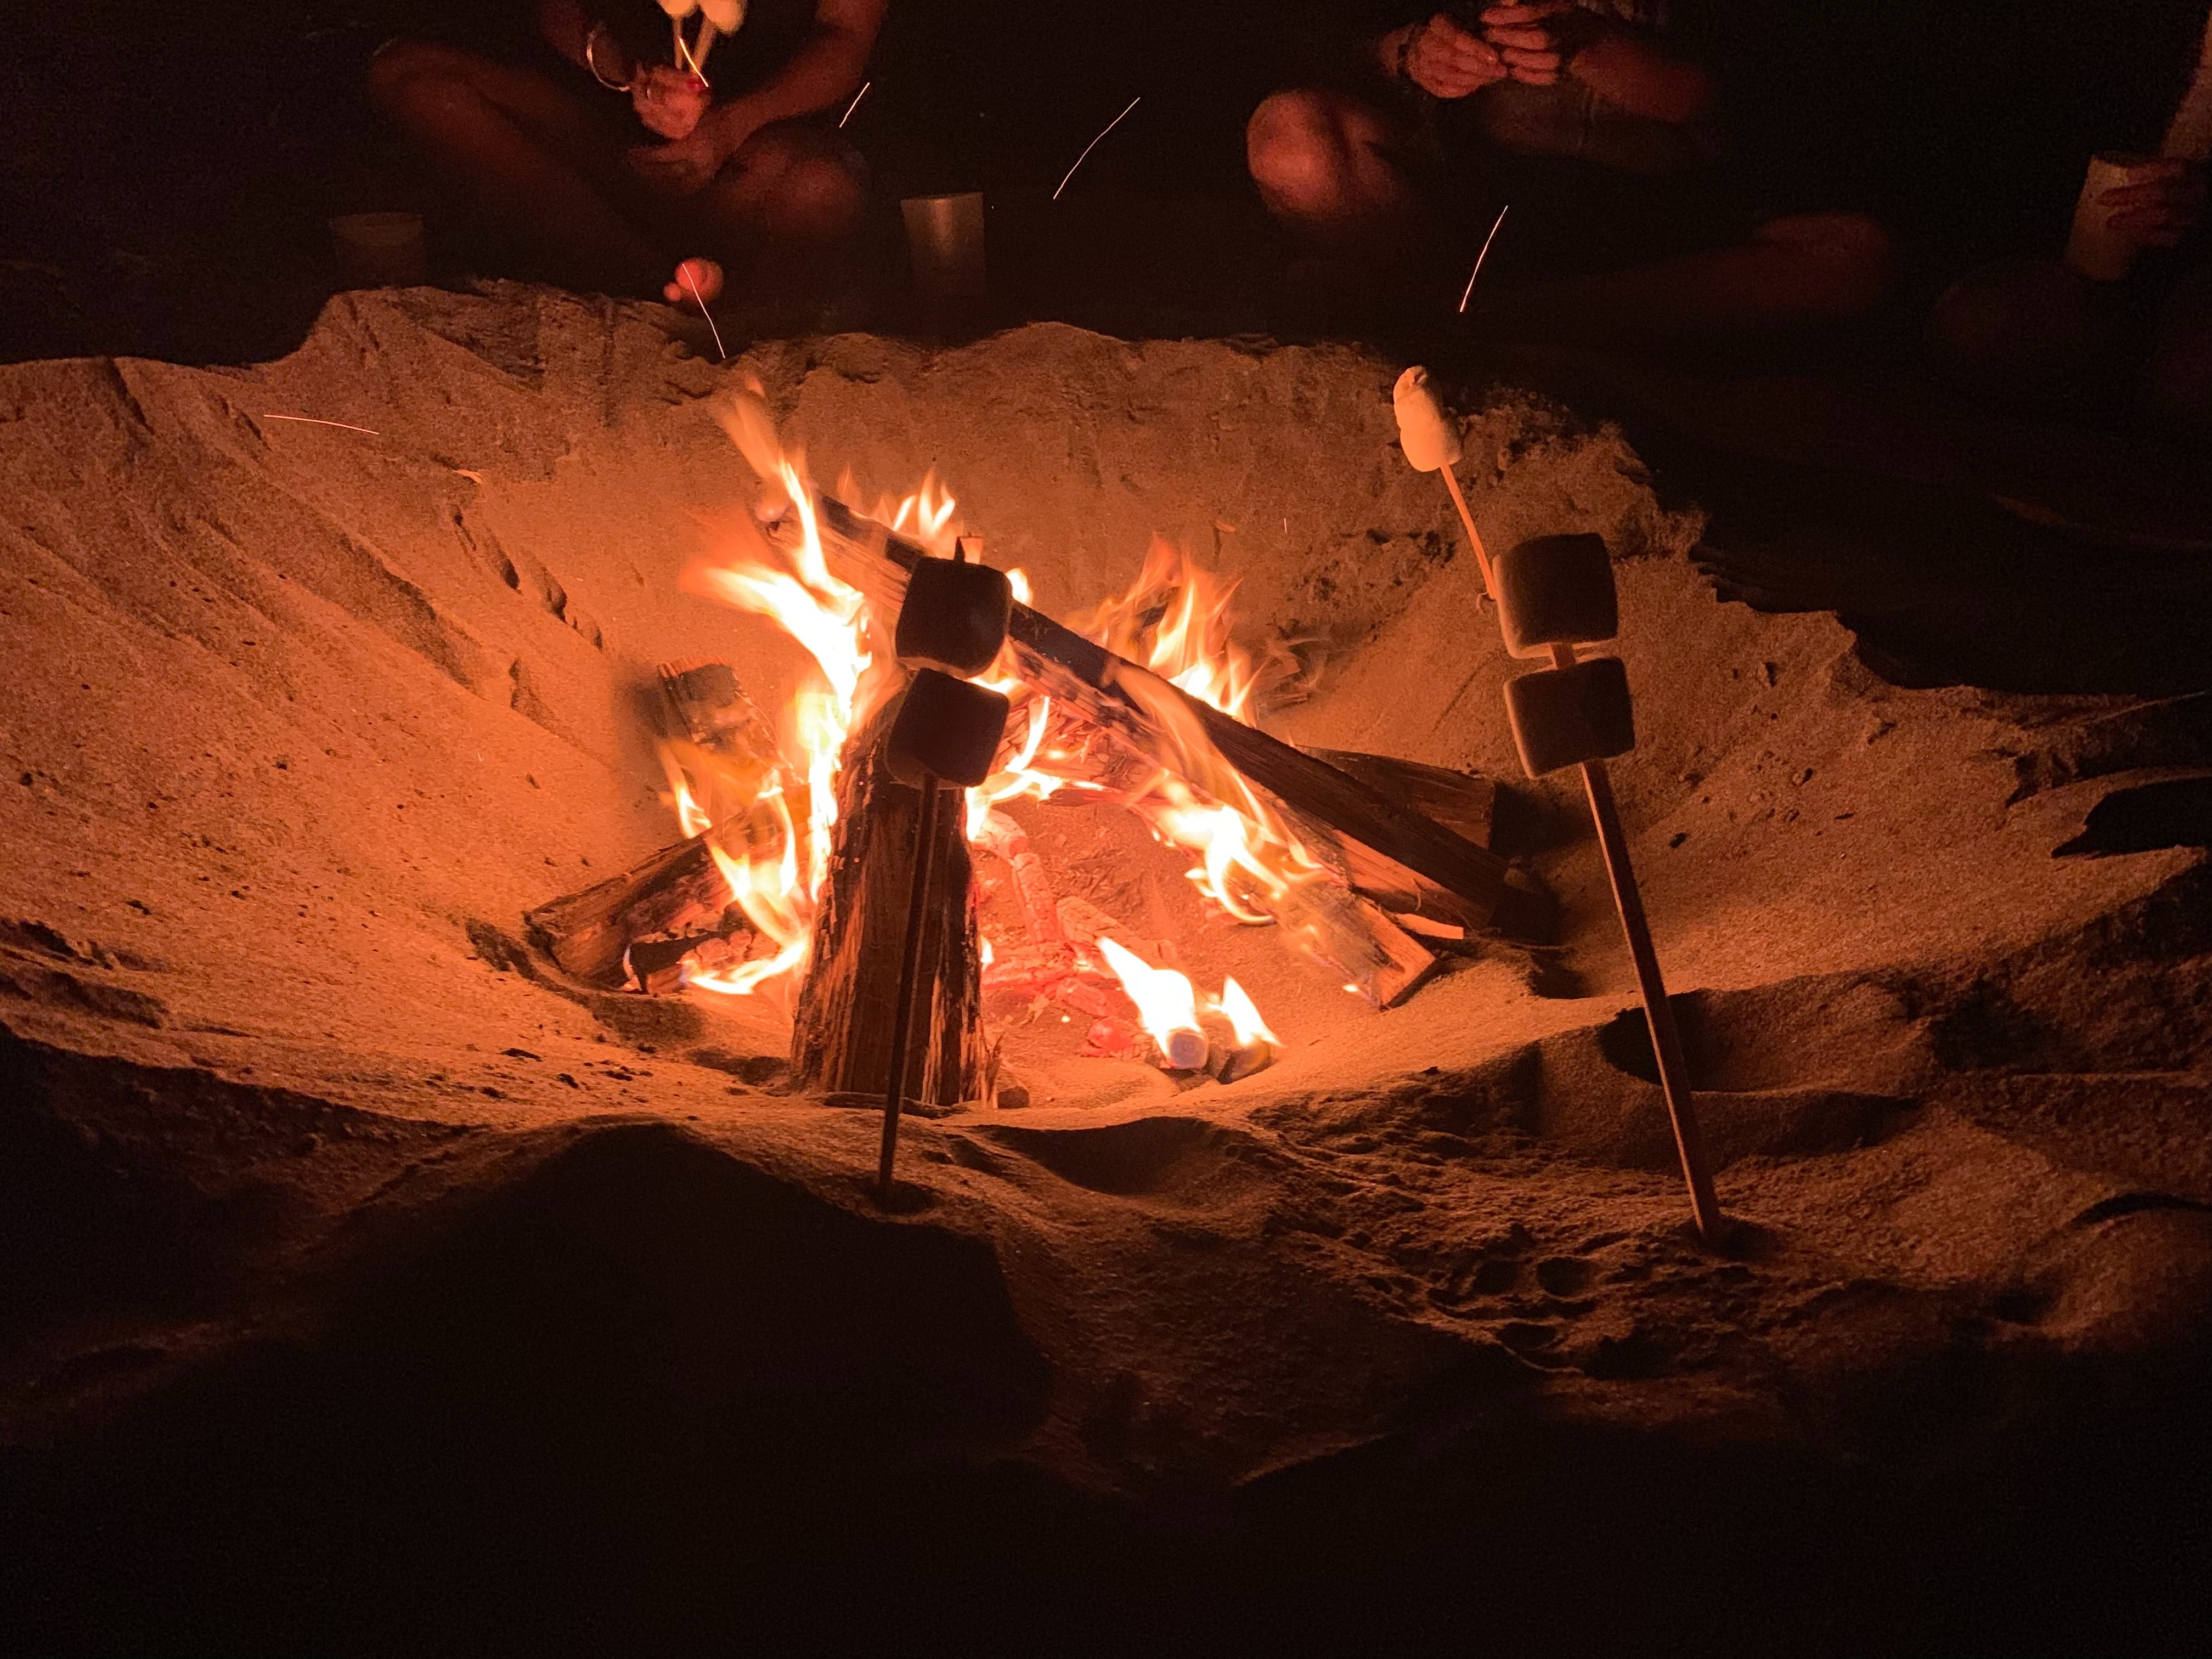fire: (657, 450, 1336, 1046)
